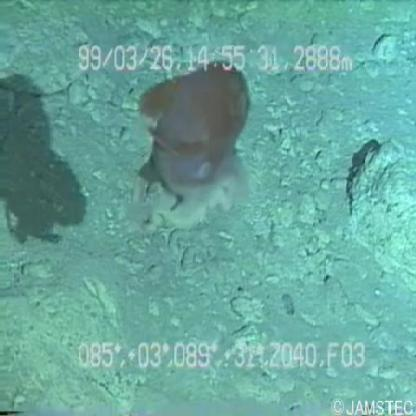Bio: (129, 55, 256, 236)
